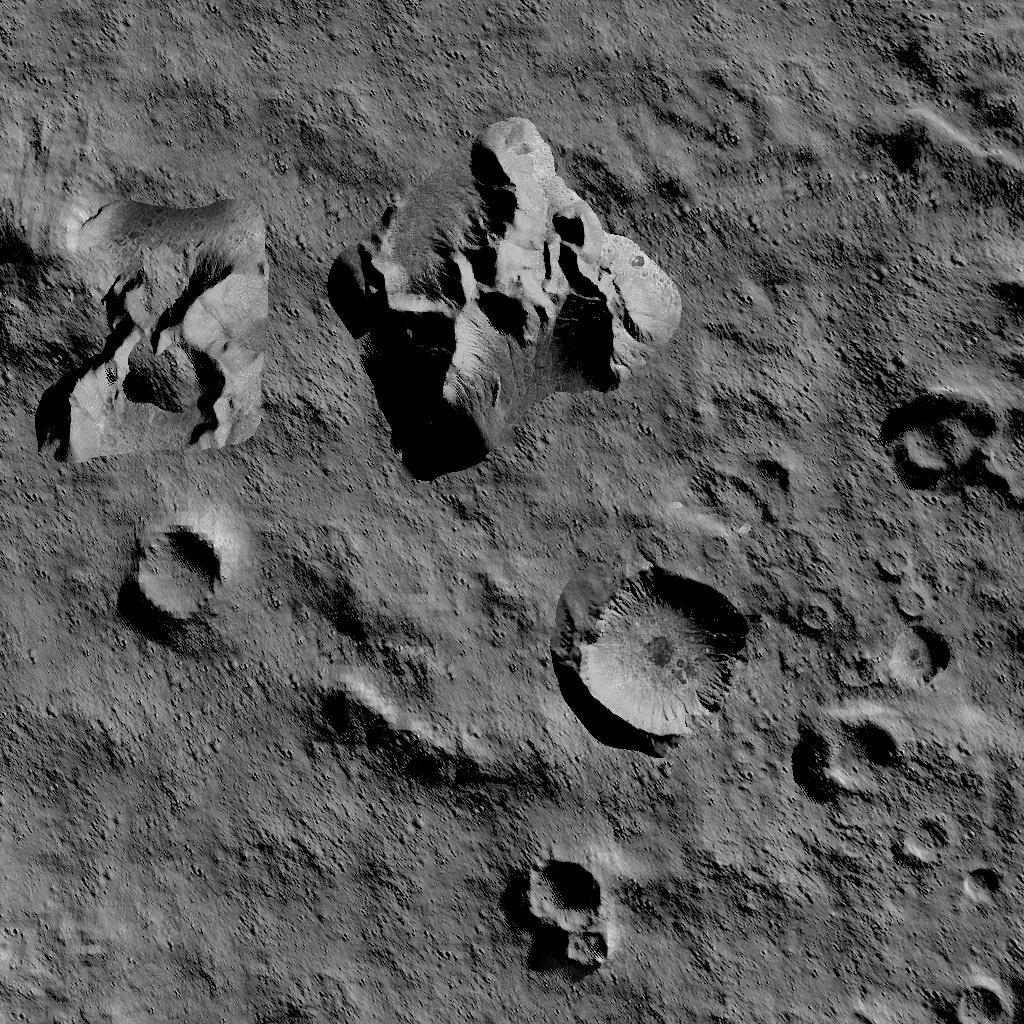Boulders: (333, 116, 676, 476), (1, 186, 285, 468)
Crater: (570, 562, 748, 748), (874, 384, 1024, 512), (520, 854, 615, 972), (788, 711, 912, 801), (132, 520, 228, 628), (931, 952, 1024, 1024), (878, 623, 958, 692), (885, 810, 943, 857), (958, 852, 1002, 896), (793, 598, 836, 636)
Plan surface: (3, 640, 338, 1024), (343, 0, 1024, 106), (3, 0, 325, 176), (691, 116, 845, 464), (627, 810, 872, 1024), (351, 756, 506, 1024)
